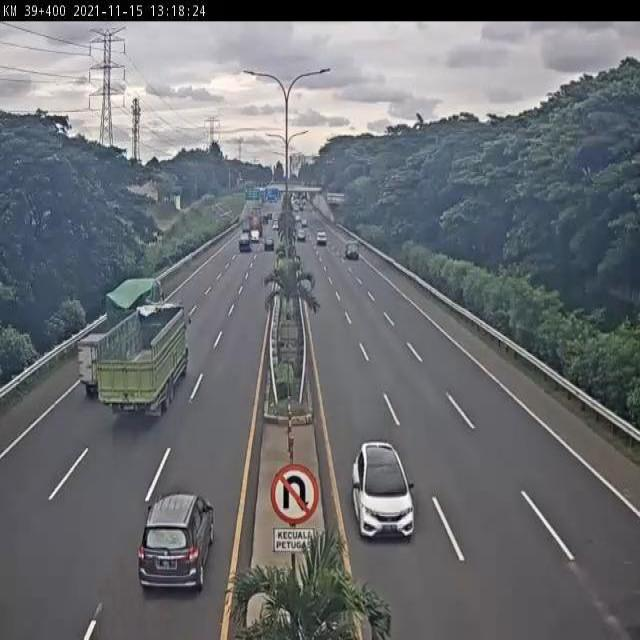ARABA: (135, 493, 216, 600), (349, 439, 416, 540)
KAMYONET: (106, 274, 167, 326), (72, 333, 114, 395)
TIR: (98, 307, 192, 424)
